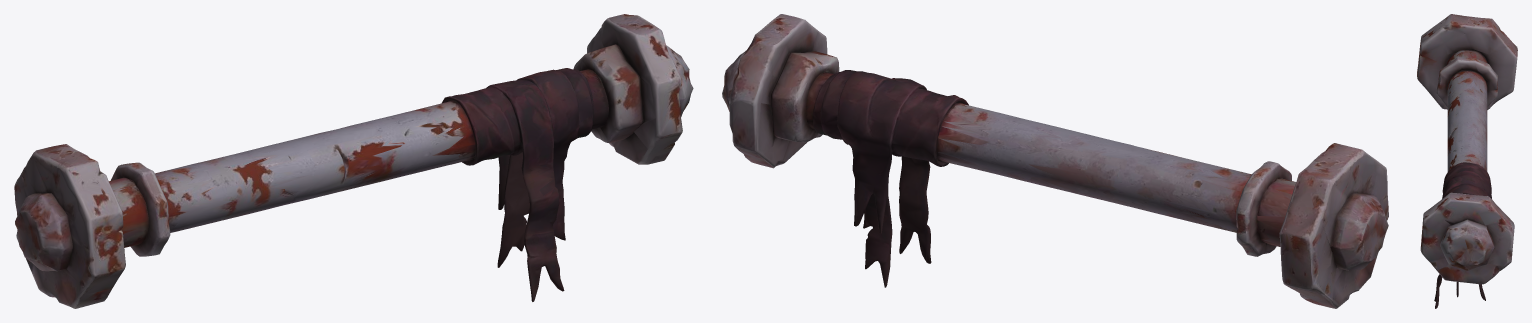
The model's file is weapon_pipe_stalnaya_truba_idle.glb.
3 renders of one model, left to right at view 1: azimuth 30°, elevation 25°; view 2: azimuth 150°, elevation 25°; view 3: azimuth 270°, elevation 25°, orthographic. The views are drawn at different scales.
Parts seen in each view (by area): view 1: tripo_node_1e174a77-e17e-46bc-8eaf-61be249ba011; view 2: tripo_node_1e174a77-e17e-46bc-8eaf-61be249ba011; view 3: tripo_node_1e174a77-e17e-46bc-8eaf-61be249ba011.
Part boxes in pixels (box(x1,y1,x2,y2)): tripo_node_1e174a77-e17e-46bc-8eaf-61be249ba011: box(14, 14, 693, 308); tripo_node_1e174a77-e17e-46bc-8eaf-61be249ba011: box(722, 14, 1388, 308); tripo_node_1e174a77-e17e-46bc-8eaf-61be249ba011: box(1417, 14, 1517, 308).
Size of the model in its own units: 0.7999 by 0.2767 by 0.17.
Materials: 1 (1 with a texture image).
